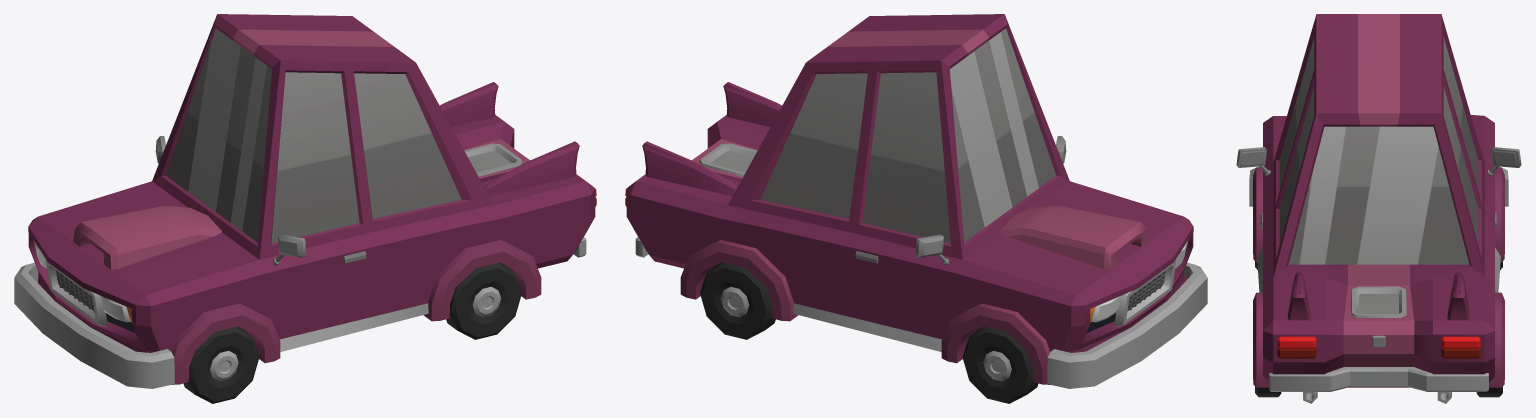
The model's file is Car_11_O.gltf.
3 renders of one model, left to right at view 1: azimuth 30°, elevation 25°; view 2: azimuth 150°, elevation 25°; view 3: azimuth 270°, elevation 25°, orthographic.
Parts seen in each view (by area): view 1: Car_11_O, RL, FL; view 2: Car_11_O, RR, FR; view 3: Car_11_O.
Boxes of the visible parts, x1,y1,x2,y2 form: Car_11_O: [14, 14, 596, 388]; RL: [446, 262, 521, 339]; FL: [183, 326, 259, 403]; Car_11_O: [625, 14, 1207, 388]; RR: [700, 262, 775, 339]; FR: [962, 326, 1038, 403]; Car_11_O: [1236, 14, 1521, 403].
Bounding box in the file's own units: 3.58 × 2.1 × 1.85.
Materials: 3 (3 with a texture image).
